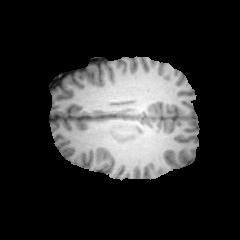glioma: (108, 122, 142, 144)
